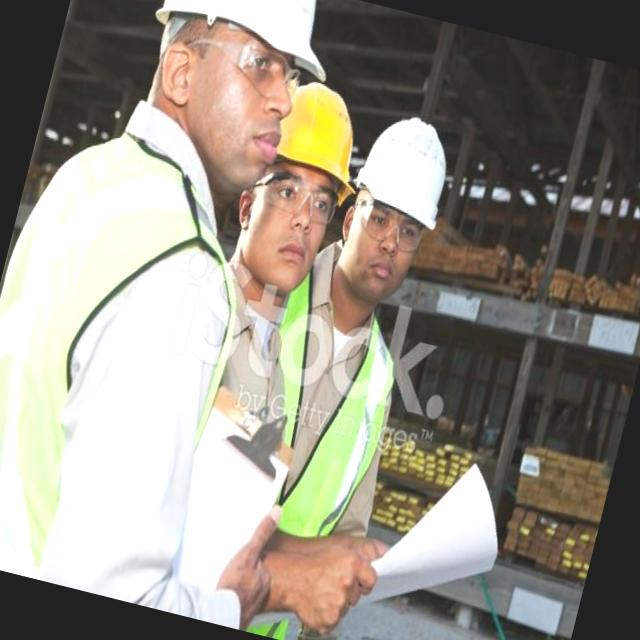goggles: (140, 10, 326, 132), (245, 162, 349, 243), (343, 190, 440, 269)
helmet: (131, 0, 348, 105), (342, 105, 461, 247), (268, 74, 373, 196)
vest: (0, 114, 217, 585), (278, 300, 420, 532)
